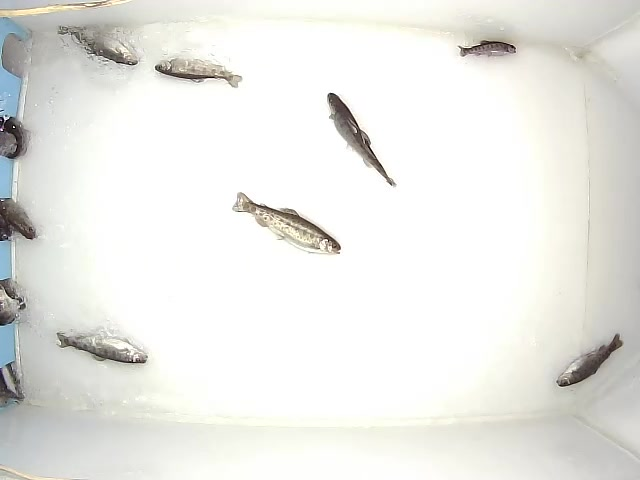fish: (325, 87, 398, 188), (231, 192, 344, 257), (557, 330, 625, 386), (57, 326, 149, 366), (56, 24, 140, 67), (154, 56, 246, 90), (454, 40, 521, 60)
